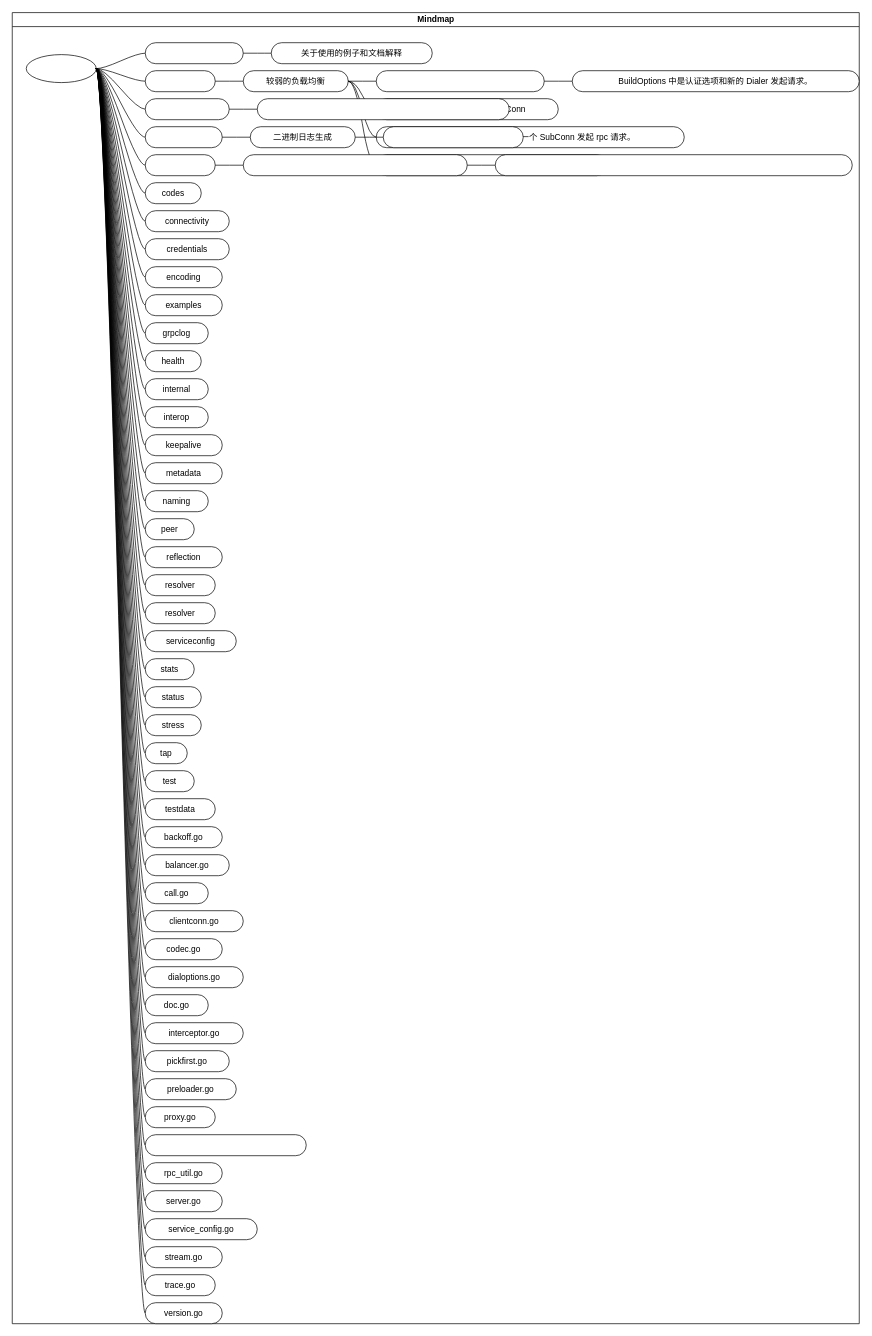
Image size: 872x1336. Some labels were removed from this diagram. The centre of each missing label's shape, as x and y in pixels:
balancer: point 180,81
benchmark: point 187,109
binarylog: point 183,137
channelz: point 180,165
Documention: point 194,53
grpc/grpc-go: point 61,68
resolver_conn_wrapper.go: point 225,1145
一堆 channel subchannel socket 的集合: point 355,165
使用 protobuf 自动生成: point 453,137
各种实现在 Builder 中注册自己的 Builder: point 491,165
用于收集各种信息，网络传输信息，上下级 Connection 传递的信息: point 673,165
自动化测量性能的工具，有一个脚本帮助运行: point 383,109
通过 banlancer Builder 构建: point 460,81
